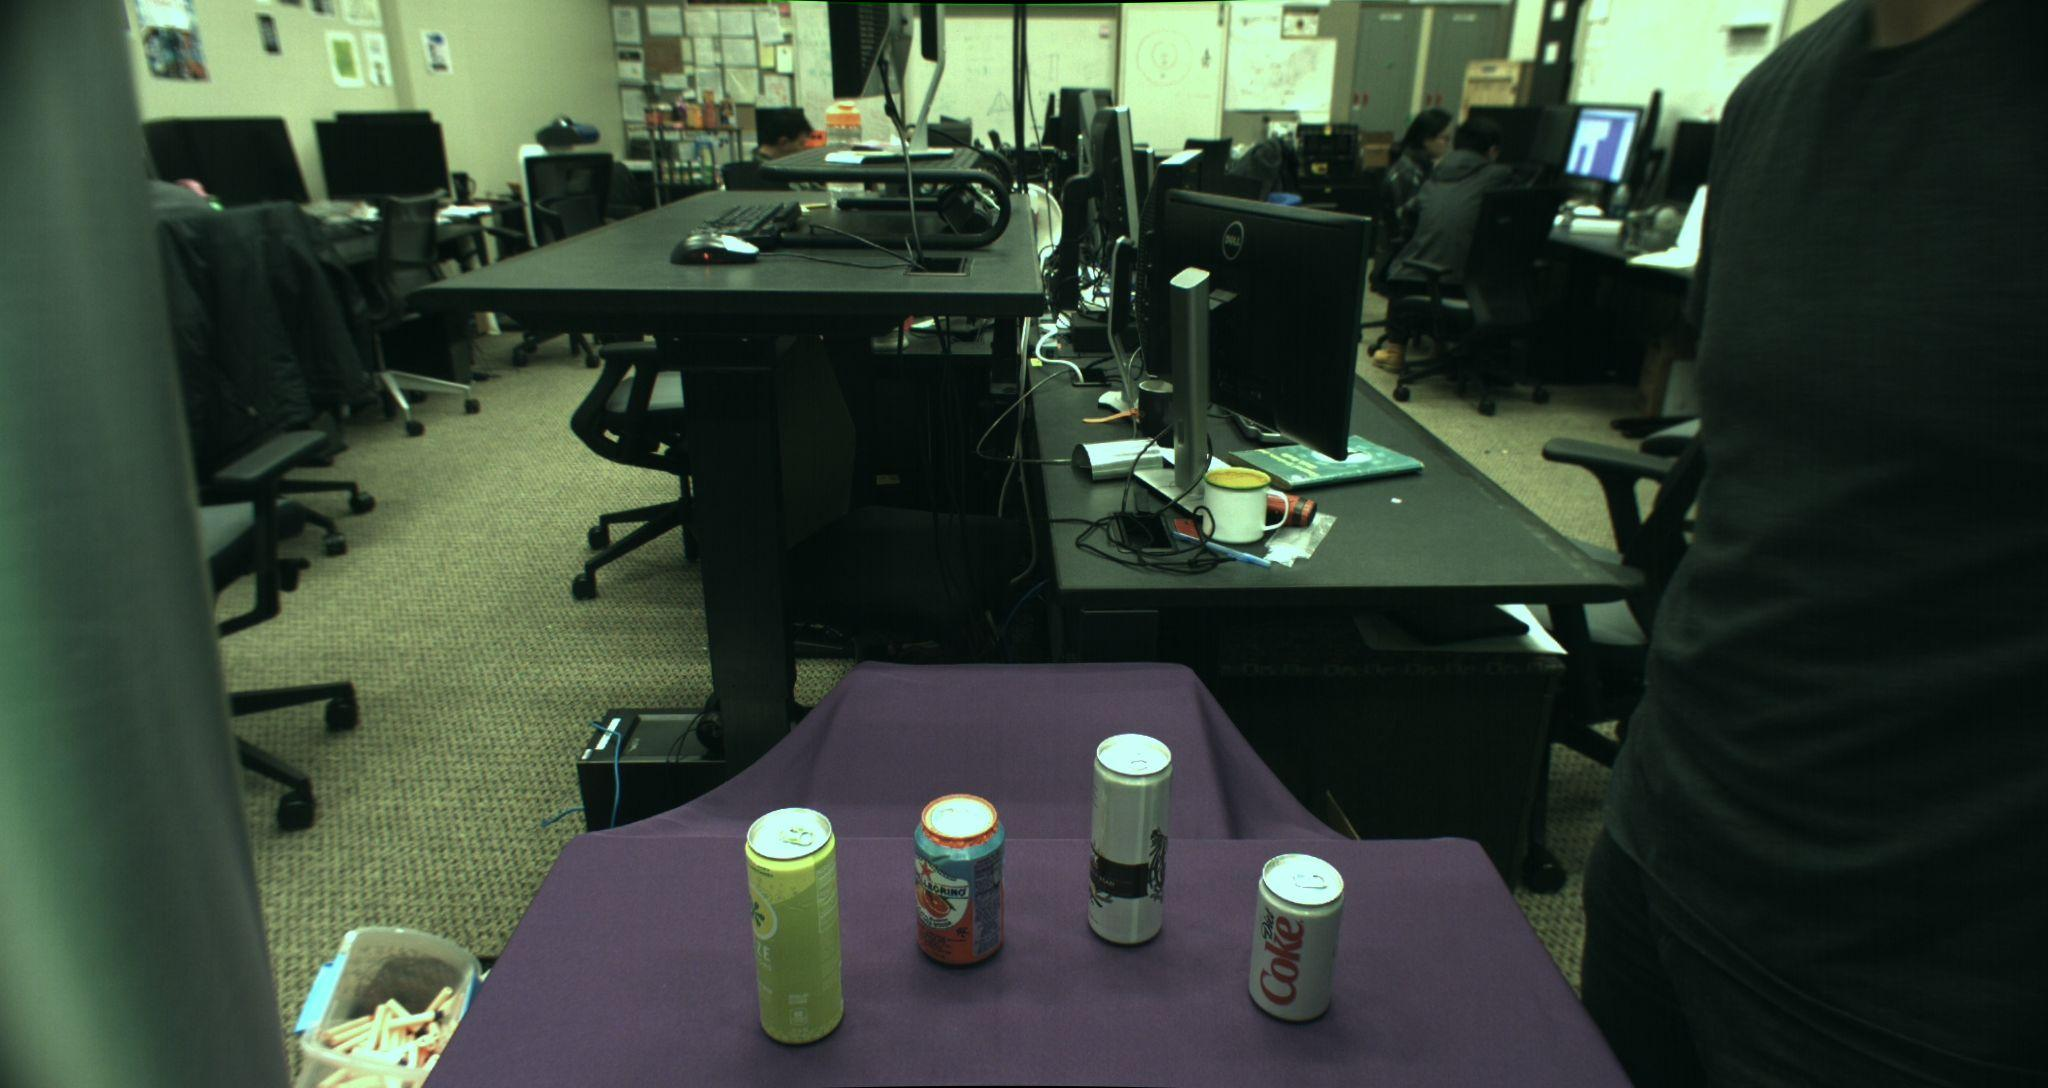can_diet_coke_small: (1247, 852, 1344, 1022)
can_dry_sparkling_vanilla_bean: (1086, 732, 1172, 944)
can_izze_fusions_lemon_lime: (744, 806, 845, 1045)
can_sanpellegrino_blood_orange: (913, 793, 1008, 966)
